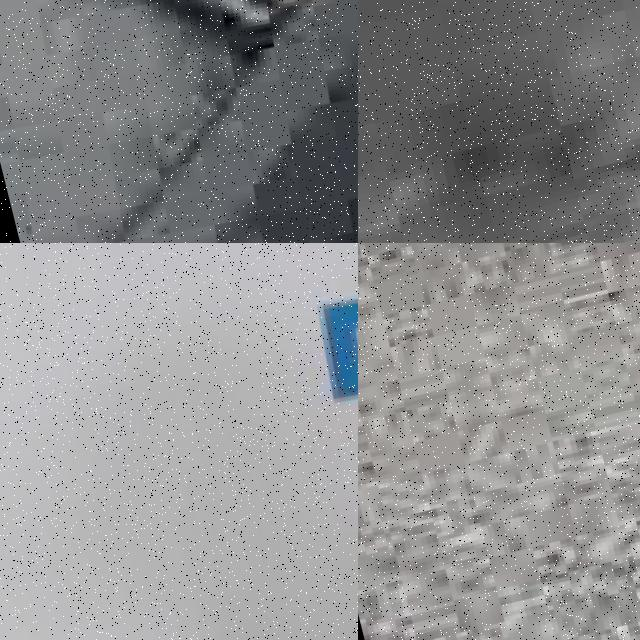0: (0, 0, 358, 243)
drone: (0, 243, 358, 640)
